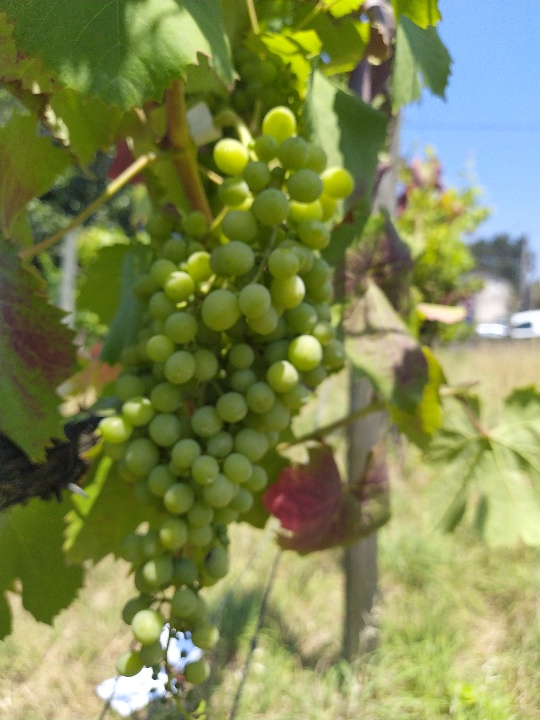grape: (96, 107, 355, 716)
